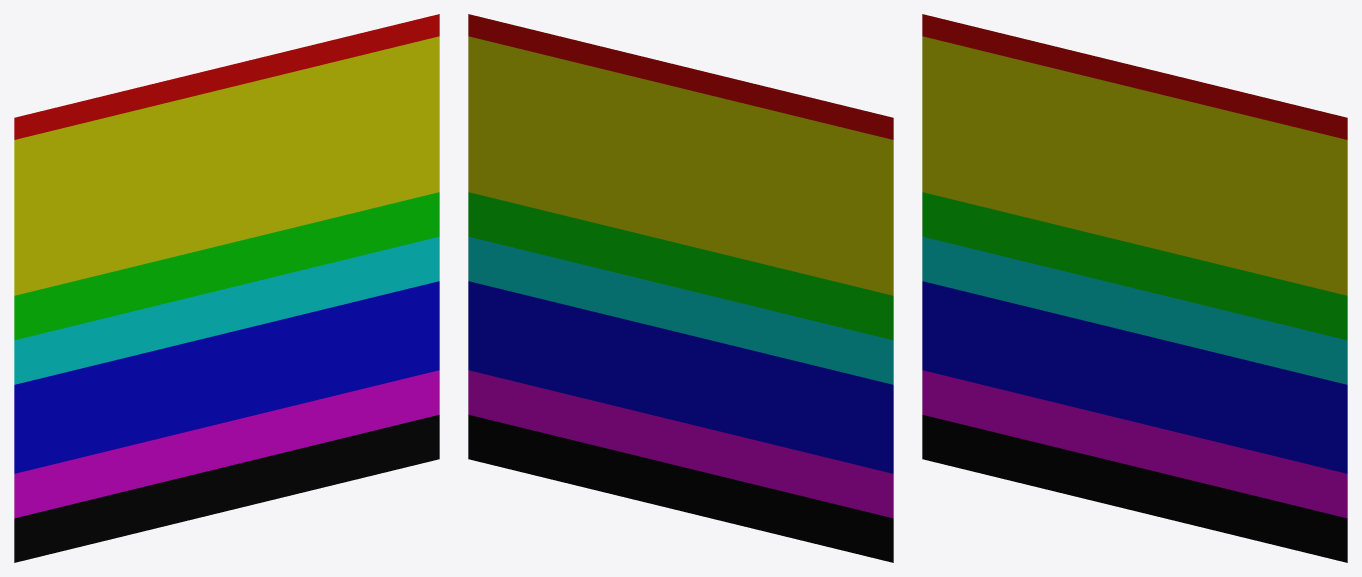
Rendered from Trim_1_low.fbx.
3 renders of one model, left to right at view 1: azimuth 30°, elevation 25°; view 2: azimuth 150°, elevation 25°; view 3: azimuth 330°, elevation 25°, orthographic.
Visible parts, largest first — view 1: Trim_1_low; view 2: Trim_1_low; view 3: Trim_1_low.
Part boxes in pixels (bbox=[...]): Trim_1_low: bbox=[14, 14, 439, 562]; Trim_1_low: bbox=[468, 14, 893, 562]; Trim_1_low: bbox=[922, 14, 1347, 562].
Size of the model in its own units: 145 by 145 by 8.88e-15.
